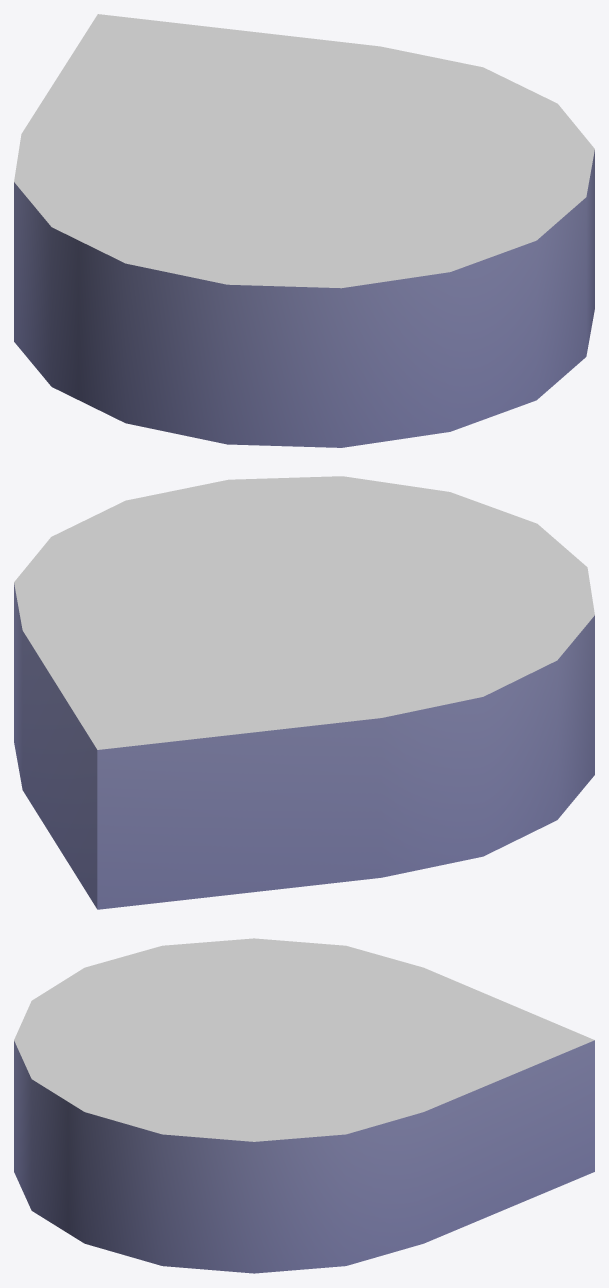
The model's file is shape-drop_0.glb.
The picture shows the model from 3 angles, top to bottom: view 1: azimuth 30°, elevation 25°; view 2: azimuth 150°, elevation 25°; view 3: azimuth 270°, elevation 25°; orthographic projection. The views are drawn at different scales.
Visible parts, largest first — view 1: shape-drop; view 2: shape-drop; view 3: shape-drop.
Part boxes in pixels (bbox=[...]): shape-drop: bbox=[14, 14, 594, 447]; shape-drop: bbox=[14, 476, 594, 909]; shape-drop: bbox=[14, 938, 594, 1273].
Size of the model in its own units: 0.2072 by 0.0625 by 0.25.
